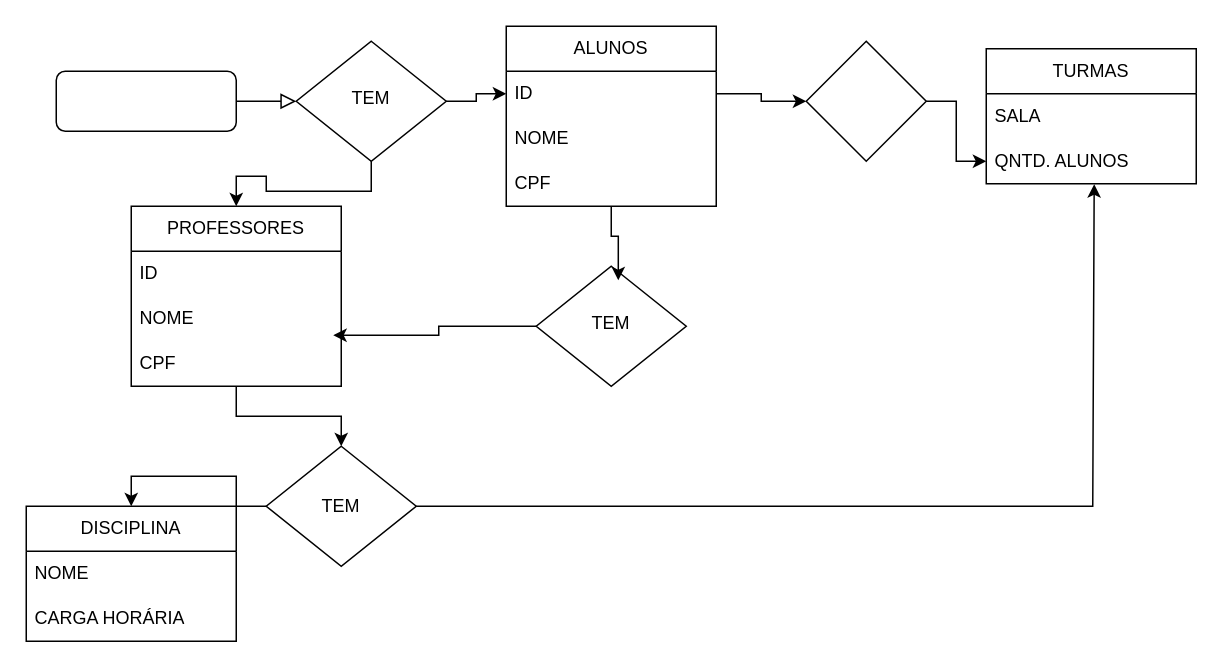
This 1223x668 diagram has some shape labels left out. The shapes that lost their labels are listed below. From the top down, each one's centre as x and y in pixels, then its label:
(x=145, y=100): ESCOLA
(x=865, y=100): SÃO DE
